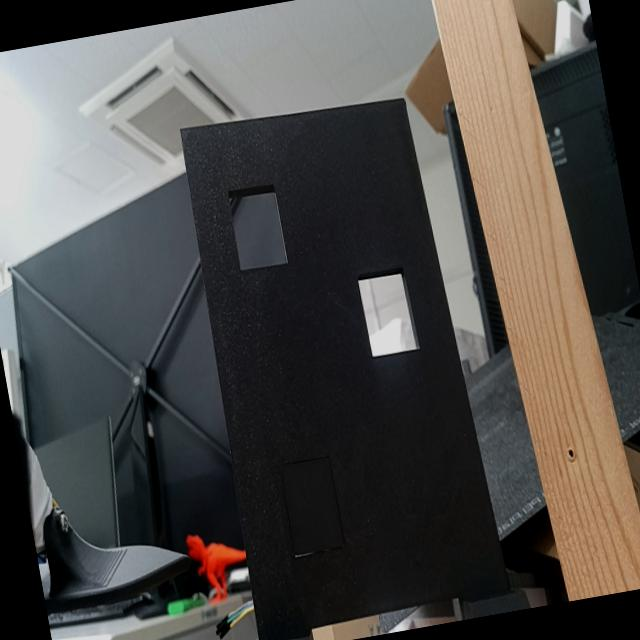Obstacle: (356, 269, 420, 358), (226, 187, 287, 267)
Wall: (181, 99, 508, 640)
